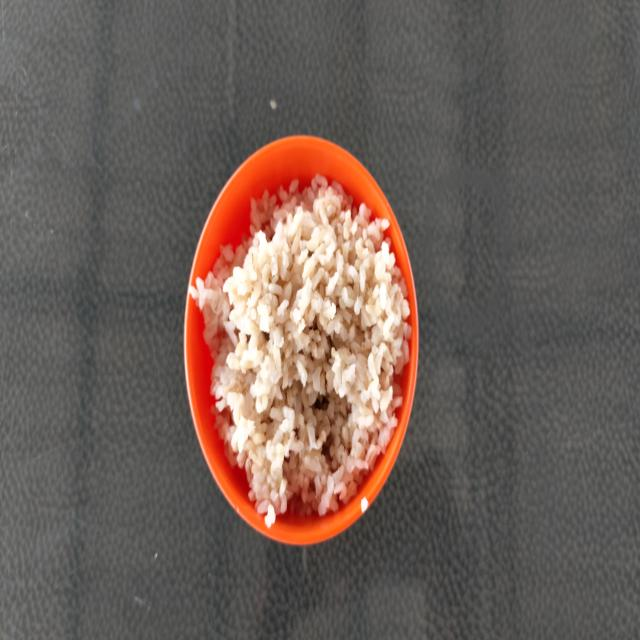brown-rice: (189, 175, 411, 516)
